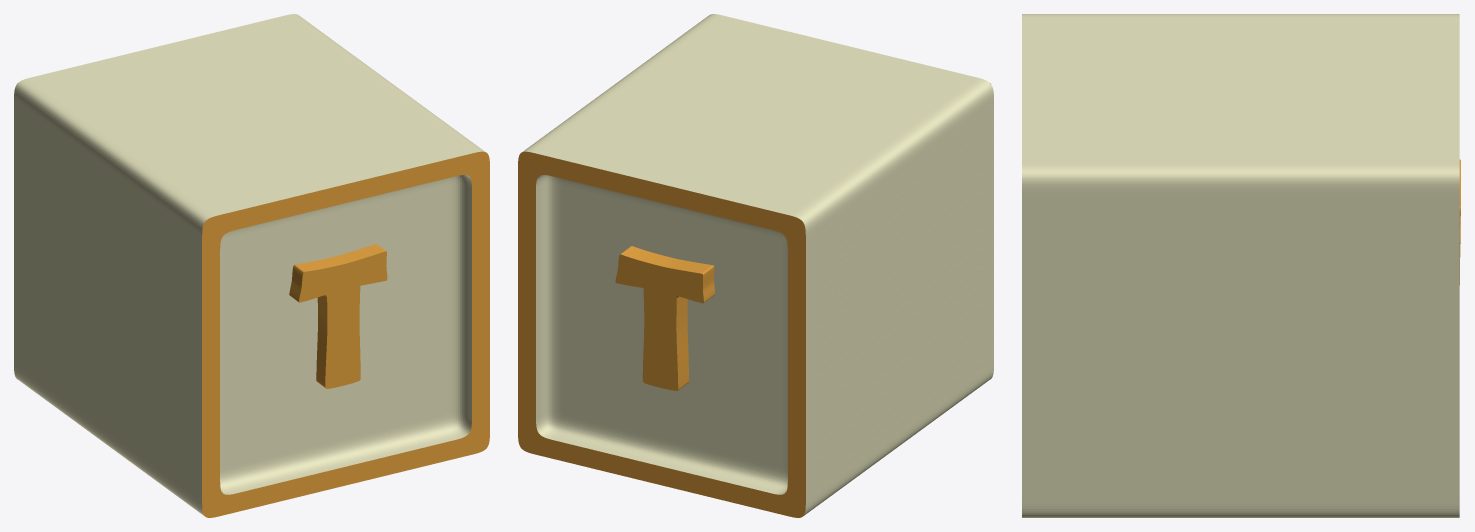
Rendered from lettertblock.fbx.
3 views of the same model, side by side, from view 1: azimuth 30°, elevation 25°; view 2: azimuth 150°, elevation 25°; view 3: azimuth 270°, elevation 25° (orthographic). The views are drawn at different scales.
Visible parts, largest first — view 1: Cube, Cube.002, Text; view 2: Cube, Cube.001, Text.001; view 3: Cube.
Boxes of the visible parts, left/top/right/bottom form: Cube: left=14, top=14, right=485, bottom=515; Cube.002: left=202, top=151, right=489, bottom=517; Text: left=289, top=244, right=387, bottom=388; Cube: left=522, top=14, right=993, bottom=515; Cube.001: left=518, top=151, right=805, bottom=517; Text.001: left=615, top=246, right=714, bottom=390; Cube: left=1022, top=14, right=1459, bottom=517.
Size of the model in its own units: 1196 by 1196 by 1359.
